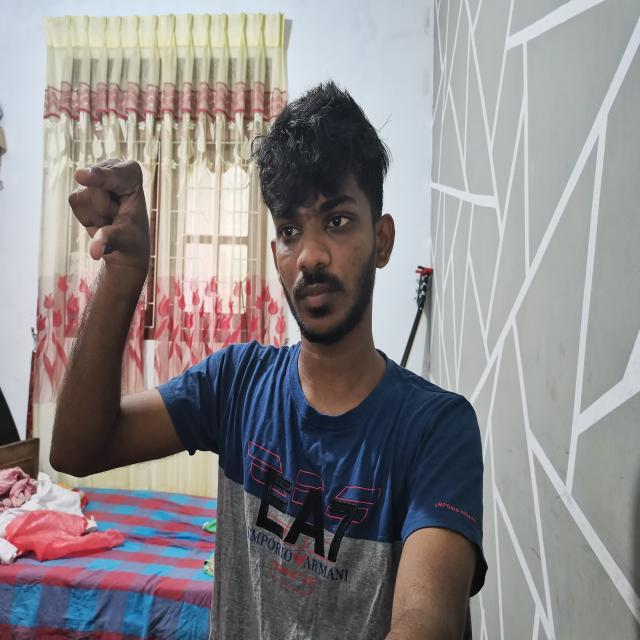No: (61, 150, 160, 274)
